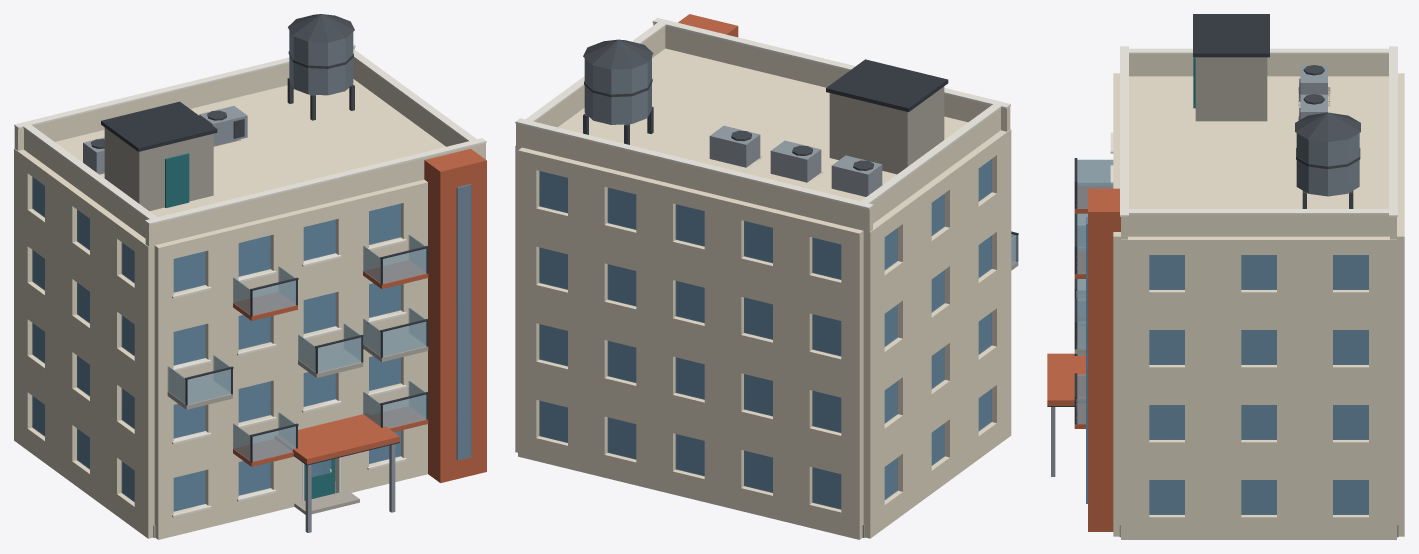
File: BUILDING_03.obj
3 views of the same model, side by side, from view 1: azimuth 30°, elevation 25°; view 2: azimuth 150°, elevation 25°; view 3: azimuth 270°, elevation 25° (orthographic). The views are drawn at different scales.
Parts seen in each view (by area): view 1: walls_floor03, roof, walls_floor02, walls_floor01, stair_core, walls_core, roof_equipment, walls_floor00, balconies, windows_floor03, windows_floor02, windows_floor01 (+4 smaller); view 2: walls_floor03, walls_floor02, walls_floor01, walls_floor00, roof, roof_equipment, walls_core, windows_floor02, windows_floor00, windows_floor03, windows_floor01, stair_core; view 3: walls_floor03, walls_core, walls_floor01, walls_floor02, roof, roof_equipment, walls_floor00, stair_core, windows_floor03, balconies, windows_floor00, windows_floor01 (+2 smaller).
Boxes of the visible parts, <box> form: walls_floor03: <box>14,148,427,335</box>; roof: <box>14,44,486,246</box>; walls_floor02: <box>14,236,427,408</box>; walls_floor01: <box>14,309,427,481</box>; stair_core: <box>424,149,486,482</box>; walls_core: <box>55,79,445,217</box>; roof_equipment: <box>83,14,354,211</box>; walls_floor00: <box>14,382,427,539</box>; balconies: <box>167,234,428,466</box>; windows_floor03: <box>32,177,406,298</box>; windows_floor02: <box>32,250,406,371</box>; windows_floor01: <box>32,323,406,444</box>; walls_floor03: <box>515,129,1011,325</box>; walls_floor02: <box>515,221,1011,401</box>; walls_floor01: <box>515,298,1011,478</box>; walls_floor00: <box>515,374,1011,539</box>; roof: <box>515,18,1010,232</box>; roof_equipment: <box>583,39,948,196</box>; walls_core: <box>558,48,967,201</box>; windows_floor02: <box>539,235,991,356</box>; windows_floor00: <box>539,389,991,509</box>; windows_floor03: <box>539,159,991,279</box>; windows_floor01: <box>539,312,991,432</box>; stair_core: <box>678,14,738,37</box>; walls_floor03: <box>1113,73,1404,329</box>; walls_core: <box>1129,76,1388,208</box>; walls_floor01: <box>1113,401,1404,479</box>; walls_floor02: <box>1113,326,1404,404</box>; roof: <box>1120,46,1397,239</box>; roof_equipment: <box>1193,14,1360,208</box>; walls_floor00: <box>1113,476,1404,539</box>; stair_core: <box>1086,188,1120,531</box>; windows_floor03: <box>1110,132,1368,289</box>; balconies: <box>1074,158,1113,428</box>; windows_floor00: <box>1149,480,1368,514</box>; windows_floor01: <box>1149,405,1368,439</box>.
Size of the model in its own units: 14.56 by 15.8 by 12.96.
